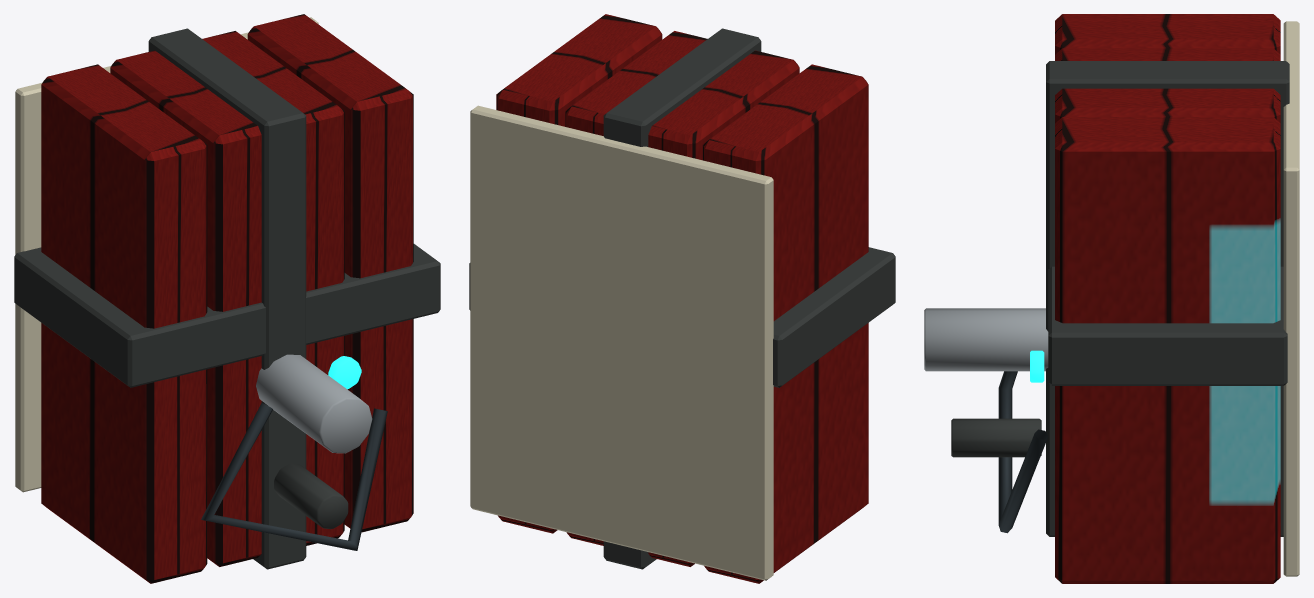
The model's file is semtex-bundle-lod2.glb.
3 renders of one model, left to right at view 1: azimuth 30°, elevation 25°; view 2: azimuth 150°, elevation 25°; view 3: azimuth 270°, elevation 25°, orthographic. The views are drawn at different scales.
Visible parts, largest first — view 1: semtex-block-1, semtex-block-4, semtex-block-2, semtex-wrap-band-horizontal, semtex-wrap-band-vertical, semtex-block-3, semtex-sticky-pad, semtex-detonator, semtex-wire, semtex-fuse, semtex-arming-light; view 2: semtex-sticky-pad, semtex-block-1, semtex-block-4, semtex-wrap-band-horizontal, semtex-wrap-band-vertical, semtex-block-2, semtex-block-3; view 3: semtex-block-4, semtex-wrap-band-horizontal, semtex-wrap-band-vertical, semtex-sticky-pad, semtex-block-1, semtex-detonator, semtex-block-3, semtex-fuse, semtex-wire, semtex-block-2, semtex-arming-light.
Boxes of the visible parts, x1,y1,x2,y2 form: semtex-block-1: (41,64,207,583); semtex-block-4: (247,14,413,532); semtex-block-2: (110,50,261,566); semtex-wrap-band-horizontal: (14,244,440,387); semtex-wrap-band-vertical: (148,28,306,569); semtex-block-3: (202,31,344,545); semtex-sticky-pad: (15,17,318,492); semtex-detonator: (256,354,372,453); semtex-wire: (201,403,387,550); semtex-fuse: (274,463,348,529); semtex-arming-light: (328,356,361,389); semtex-sticky-pad: (470,105,773,580); semtex-block-1: (702,64,868,583); semtex-block-4: (496,14,662,533); semtex-wrap-band-horizontal: (469,247,895,387); semtex-wrap-band-vertical: (603,28,761,569); semtex-block-2: (648,50,799,566); semtex-block-3: (565,31,707,545); semtex-block-4: (1055,117,1280,583); semtex-wrap-band-horizontal: (1048,266,1287,385); semtex-wrap-band-vertical: (1046,61,1289,536); semtex-sticky-pad: (1283,21,1299,576); semtex-block-1: (1055,14,1280,54); semtex-detonator: (924,308,1048,371); semtex-block-3: (1055,88,1280,123); semtex-fuse: (951,418,1041,457); semtex-wire: (998,371,1048,533); semtex-block-2: (1055,48,1280,60); semtex-arming-light: (1030,350,1044,382).
Size of the model in its own units: 0.41 by 0.56 by 0.416.
Materials: 6 (1 with a texture image).
